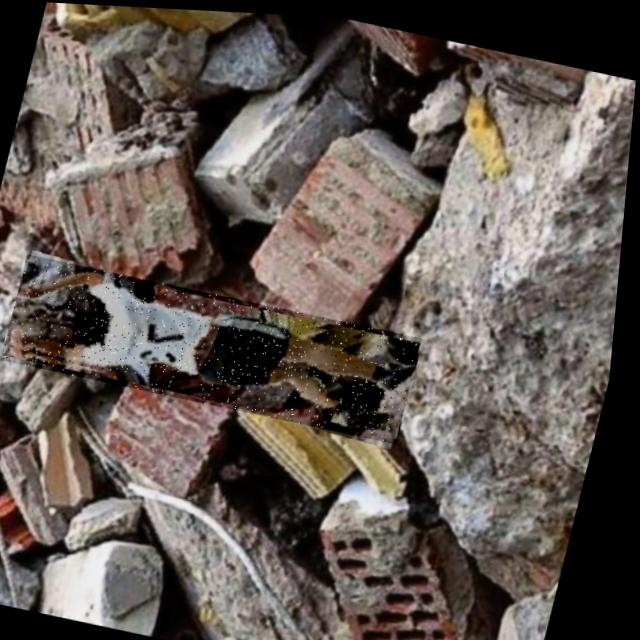Person in Rubble: (3, 252, 433, 439)
